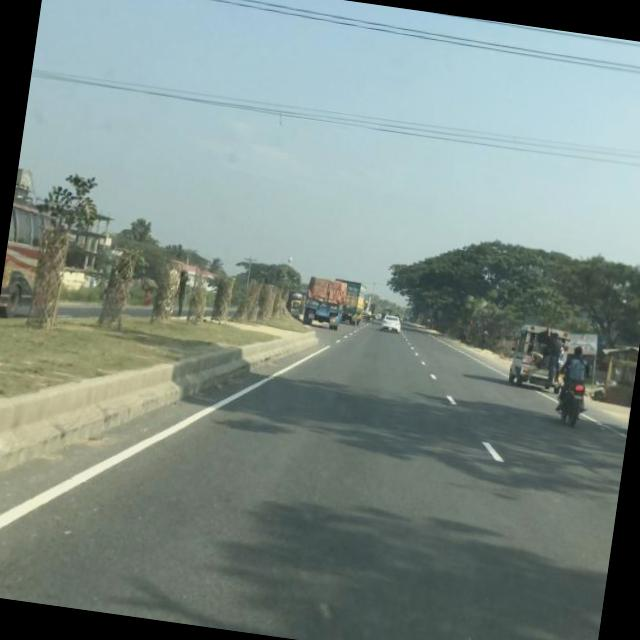bus: (508, 320, 574, 393)
car: (380, 312, 408, 336)
motorcycle: (552, 344, 595, 427)
truck: (301, 272, 352, 330), (344, 278, 371, 324)
